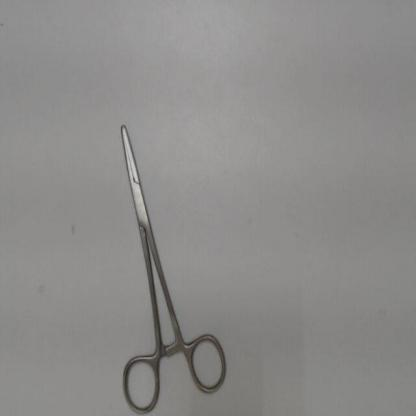Mayo Needle Holder: (114, 110, 232, 415)
